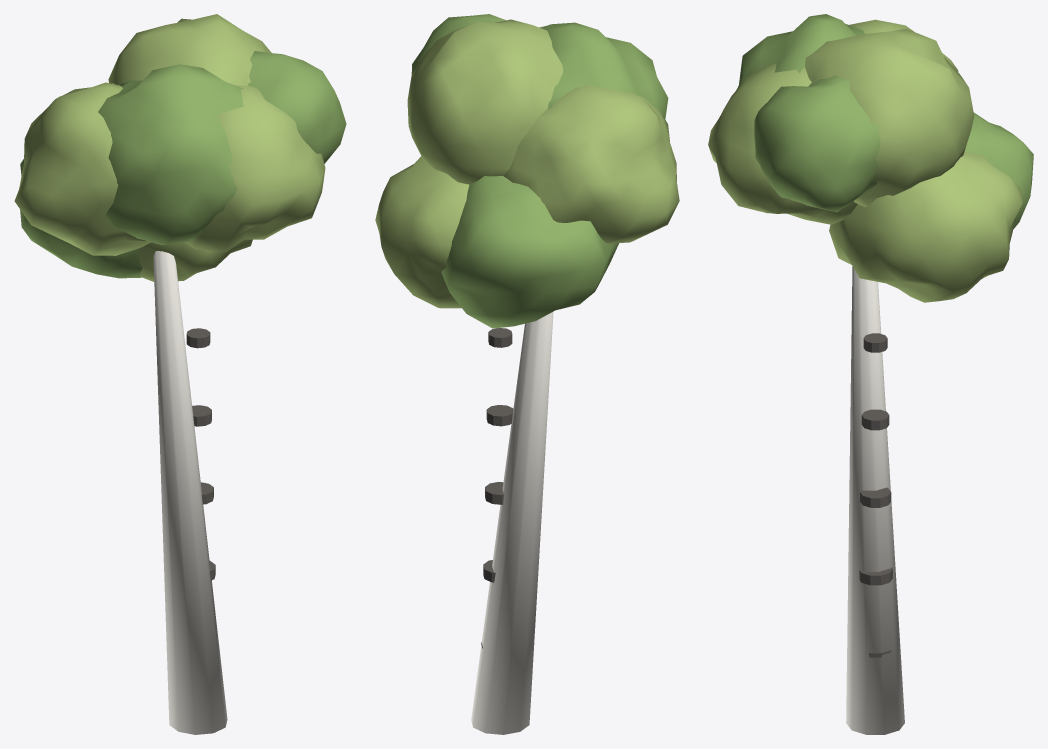
The model's file is tree_birch.glb.
3 views of the same model, side by side, from view 1: azimuth 30°, elevation 25°; view 2: azimuth 150°, elevation 25°; view 3: azimuth 270°, elevation 25° (orthographic).
Parts seen in each view (by area): view 1: Cone, Icosphere.005, Icosphere.004, Icosphere.006, Icosphere, Icosphere.007, Icosphere.003, Icosphere.002; view 2: Icosphere.004, Icosphere, Cone, Icosphere.003, Icosphere.002, Icosphere.005, Icosphere.007, Cylinder.003; view 3: Icosphere.002, Cone, Icosphere, Icosphere.007, Icosphere.006, Icosphere.005, Icosphere.003, Icosphere.004, Cylinder.002, Cylinder.003.
Boxes of the visible parts, x1=… form: Cone: x1=153, y1=251, x2=227, y2=734; Icosphere.005: x1=98, y1=64, x2=243, y2=244; Icosphere.004: x1=14, y1=82, x2=151, y2=255; Icosphere.006: x1=184, y1=85, x2=325, y2=251; Icosphere: x1=108, y1=14, x2=271, y2=85; Icosphere.007: x1=248, y1=51, x2=346, y2=163; Icosphere.003: x1=20, y1=159, x2=142, y2=278; Icosphere.002: x1=139, y1=239, x2=252, y2=281; Icosphere.004: x1=504, y1=85, x2=679, y2=243; Icosphere: x1=407, y1=19, x2=563, y2=184; Cone: x1=471, y1=311, x2=553, y2=734; Icosphere.003: x1=441, y1=176, x2=618, y2=328; Icosphere.002: x1=375, y1=156, x2=469, y2=308; Icosphere.005: x1=541, y1=22, x2=668, y2=118; Icosphere.007: x1=411, y1=14, x2=505, y2=73; Cylinder.003: x1=486, y1=405, x2=513, y2=426; Icosphere.002: x1=829, y1=151, x2=1022, y2=302; Cone: x1=846, y1=266, x2=904, y2=734; Icosphere: x1=805, y1=29, x2=974, y2=207; Icosphere.007: x1=754, y1=75, x2=880, y2=212; Icosphere.006: x1=708, y1=63, x2=857, y2=224; Icosphere.005: x1=736, y1=14, x2=864, y2=90; Icosphere.003: x1=964, y1=112, x2=1033, y2=228; Icosphere.004: x1=849, y1=19, x2=958, y2=71; Cylinder.002: x1=860, y1=487, x2=891, y2=507; Cylinder.003: x1=861, y1=409, x2=889, y2=430.
Size of the model in its own units: 3.61 by 8.5 by 3.65.
